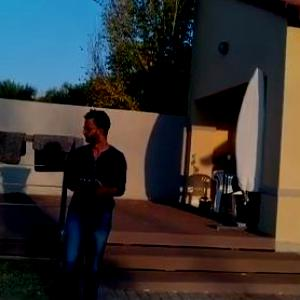follow: (57, 105, 130, 299)
